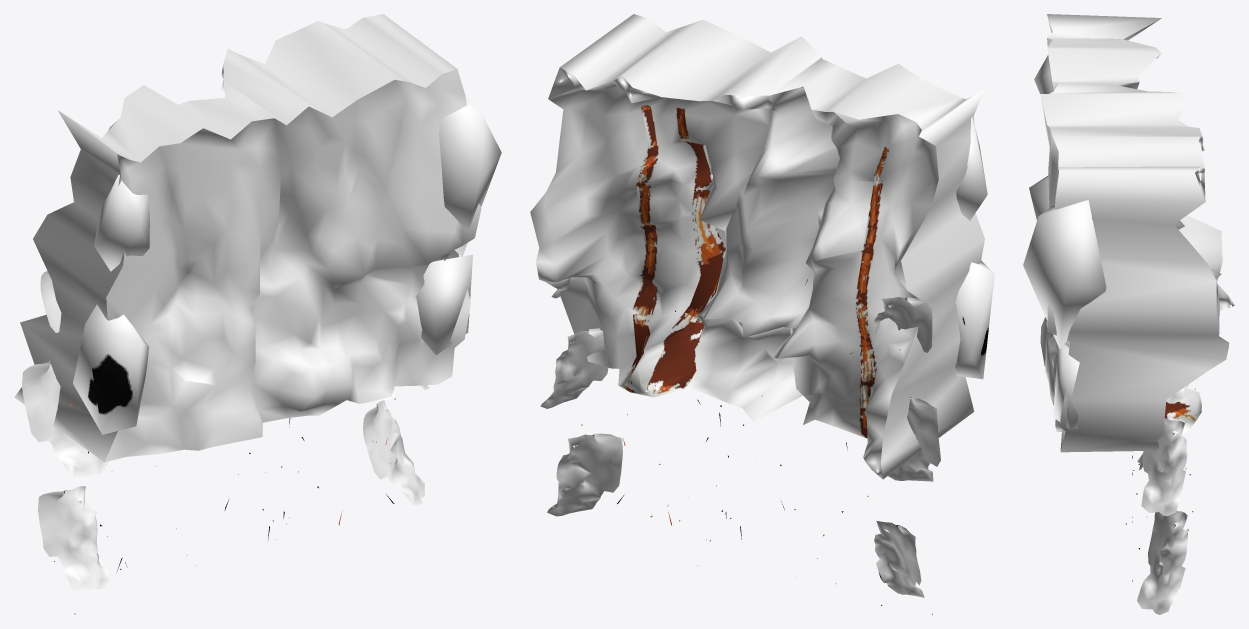
File: b4lod_v33_rockwall_3k.glb
3 views of the same model, side by side, from view 1: azimuth 30°, elevation 25°; view 2: azimuth 150°, elevation 25°; view 3: azimuth 270°, elevation 25° (orthographic). The views are drawn at different scales.
Visible parts, largest first — view 1: b4lod_v33_rockwall_3k; view 2: b4lod_v33_rockwall_3k; view 3: b4lod_v33_rockwall_3k.
Part boxes in pixels (x1,y1,x2,y2): b4lod_v33_rockwall_3k: [14, 14, 501, 614]; b4lod_v33_rockwall_3k: [530, 14, 994, 614]; b4lod_v33_rockwall_3k: [1023, 14, 1234, 614].
Size of the model in its own units: 49.76 by 56.84 by 23.79.
Materials: 1 (1 with a texture image).
